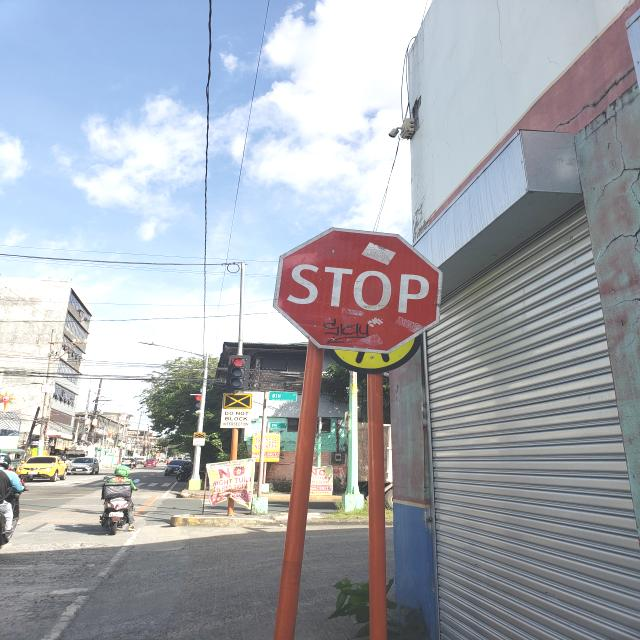stop-sign: (273, 226, 444, 354)
